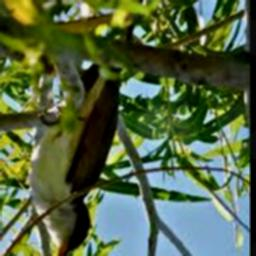Cuckoo: (29, 0, 150, 256)
